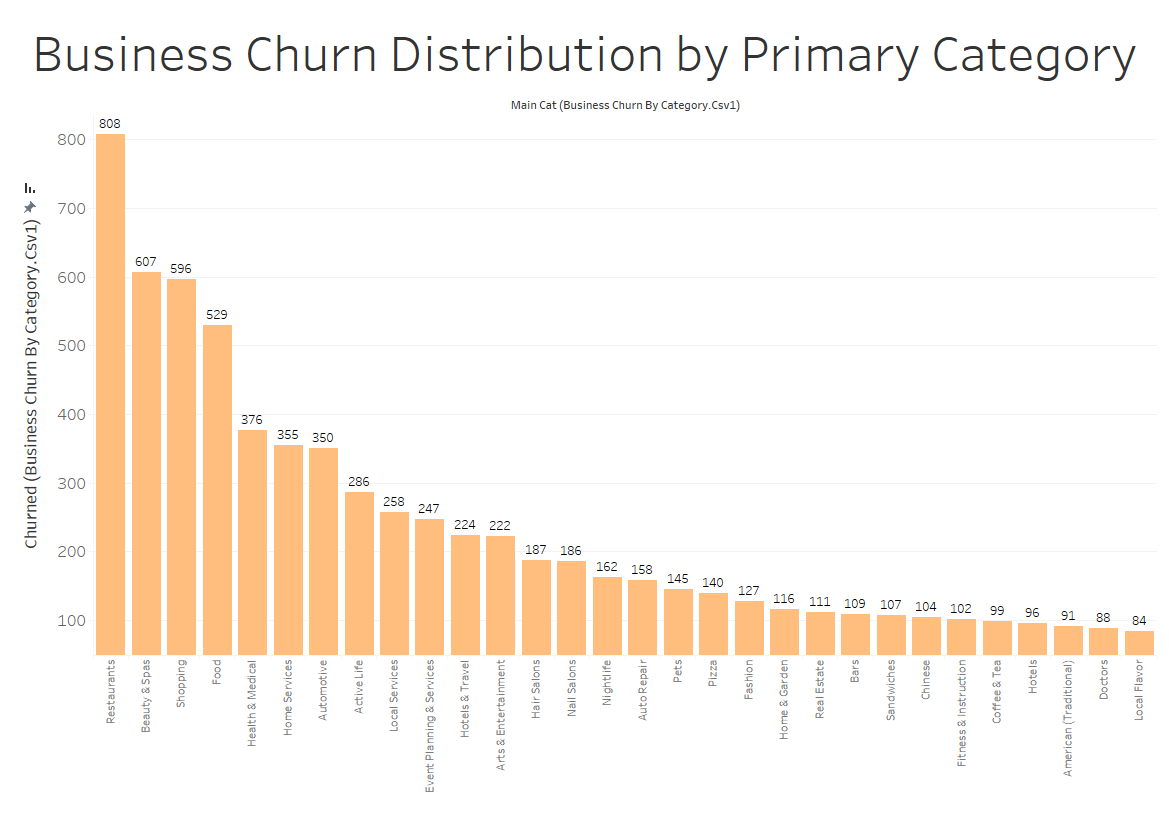

This screenshot's page, from the dashboard's own definition file:
{"tool":"tableau","page":{"name":"Business Churn Distribution by Primary Category dashboard","canvas":[1169,827],"ordinal":0},"visuals":[{"type":"worksheet","title":"Business Churn Distribution by Primary Category","mark":"Bar","rows":["churned (business_churn_by_category.csv1)"],"cols":["main_cat (business_churn_by_category.csv1)"],"box":[8,8,1153,811]}]}

Visuals, with their boxes in screenshot pixels (x1, y1, x2, y2), scaled from the page's 1169x827 canvas onto the 1169x827 screenshot:
"Business Churn Distribution by Primary Category" worksheet (Bar marks): locate(8, 8, 1161, 819)
